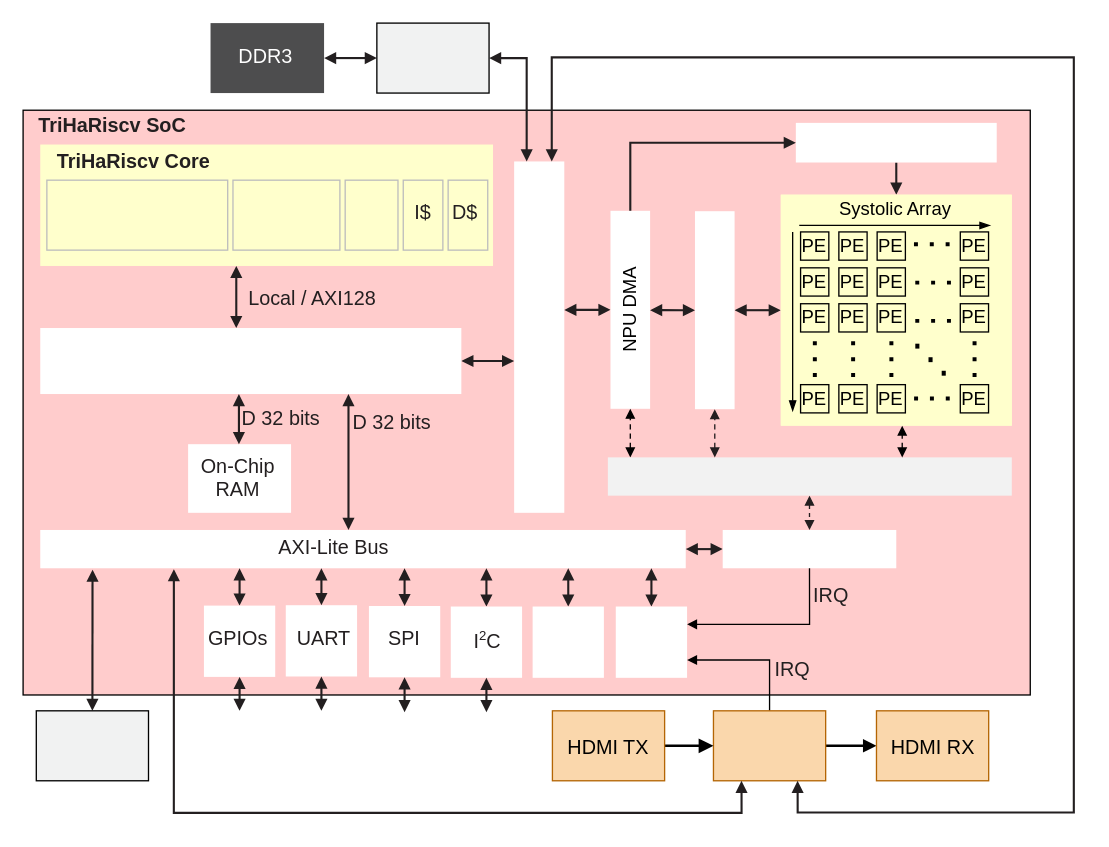
Some shapes in this 1109 by 847 pixel diagram are drawn without their labels. The centre of each missing label's shape, as x and y in pixels:
6-stage / in-order Dual Issue: (x=137, y=214)
AXI Bus: (x=538, y=336)
BPU: (x=371, y=214)
Feature Maps Buffer: (x=714, y=310)
Memory Controller: (x=432, y=57)
NPU Controller: (x=809, y=476)
NPU CSR: (x=809, y=548)
Parameters Buffer: (x=895, y=142)
PLIC: (x=650, y=641)
RV32IM Zicsr: (x=286, y=214)
System Main Memory Bus: (x=250, y=360)
Timer: (x=567, y=641)
User Peripherals: (x=91, y=745)
Video Subsystem: (x=769, y=745)
